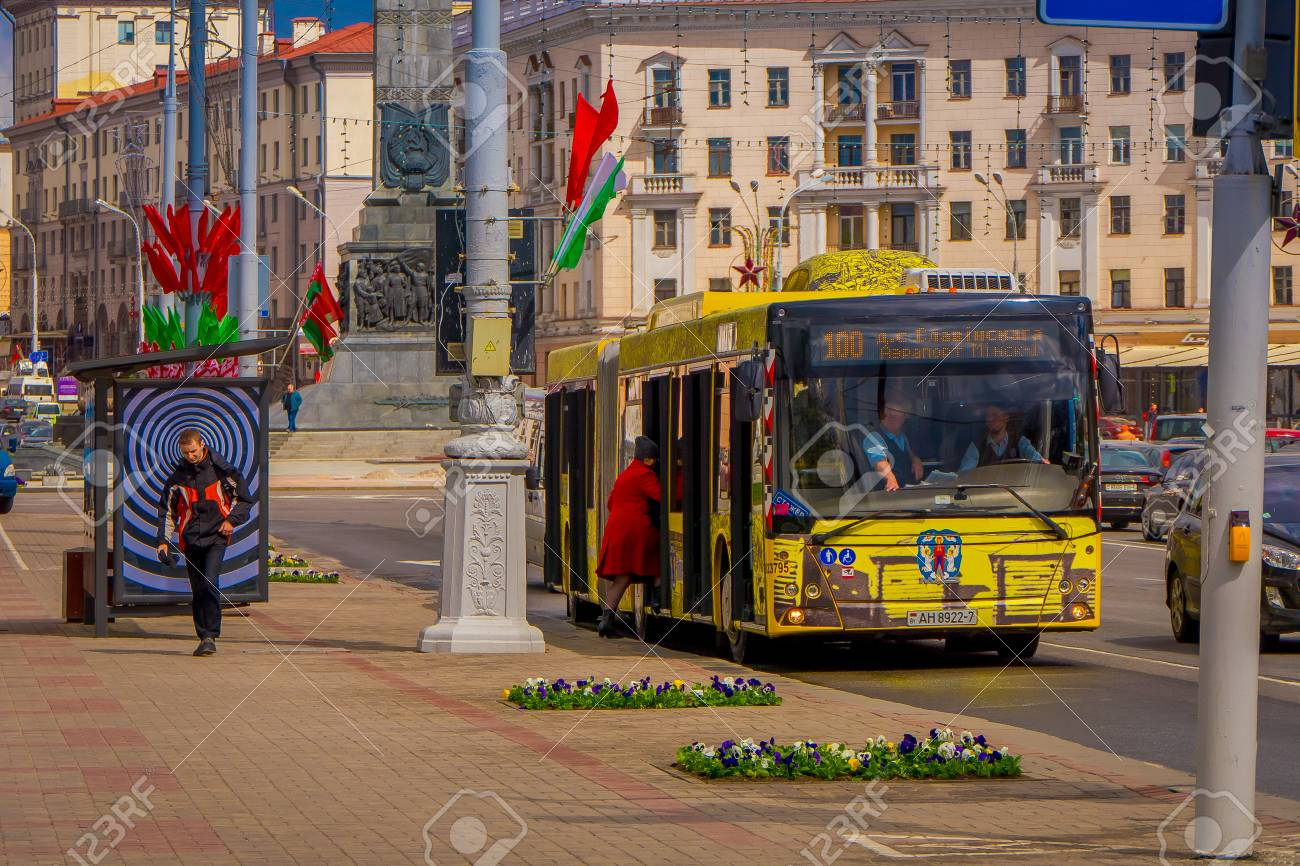bus: (535, 247, 1102, 668)
